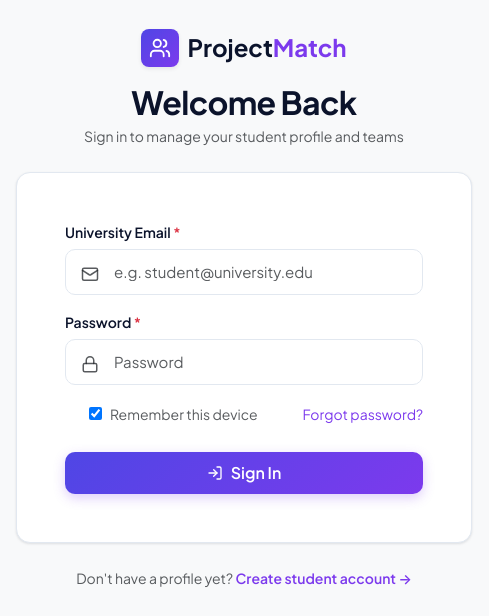
Test: LoginPage › shows an error for an invalid email format
This screenshot has width=489, height=616.
Step 1. Type "not-an-email" into the field labelled "University Email *" → (244, 272), box [65,249,423,295]
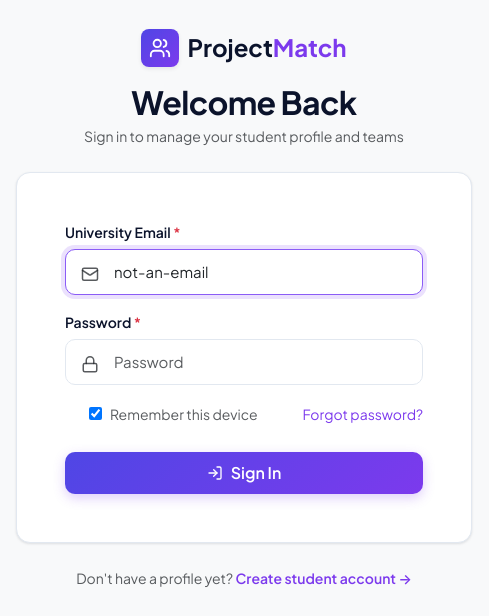
Step 2. Type "password123" into the password field with placeholder "Password" → (244, 362), box [65,339,423,385]
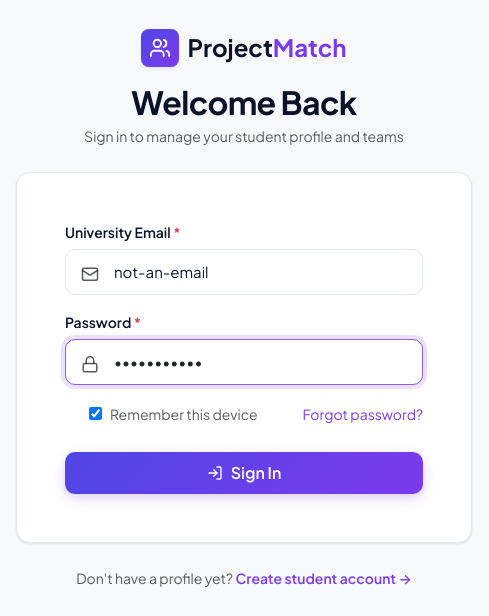
Step 3. Click the button "Sign In" → click(244, 473), box [65,452,423,494]
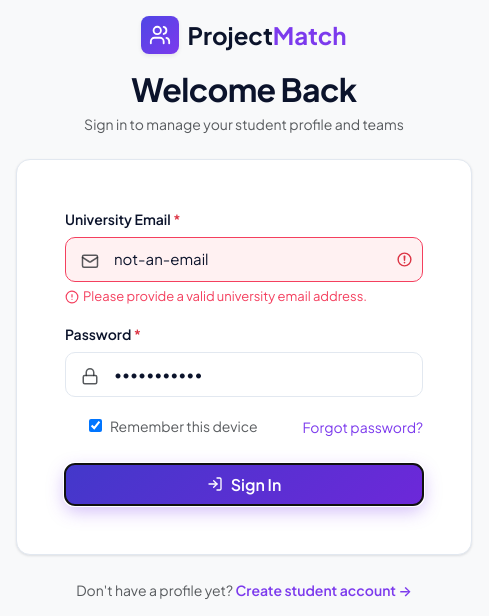
Result: the text "Please provide a valid university email address." is shown at [83,286,367,307]
